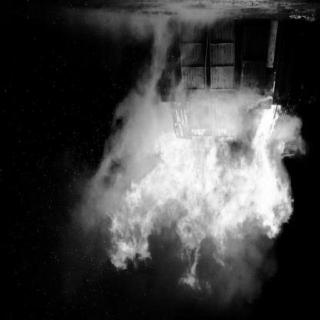Fire: (88, 21, 302, 287)
